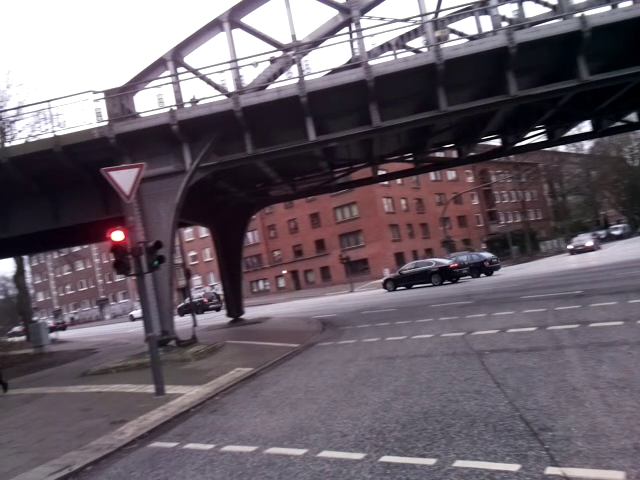car: (379, 250, 472, 296)
